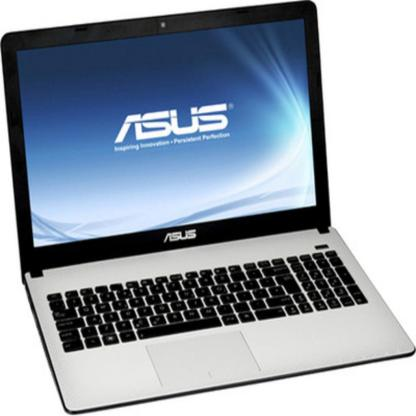board: (0, 0, 413, 412)
